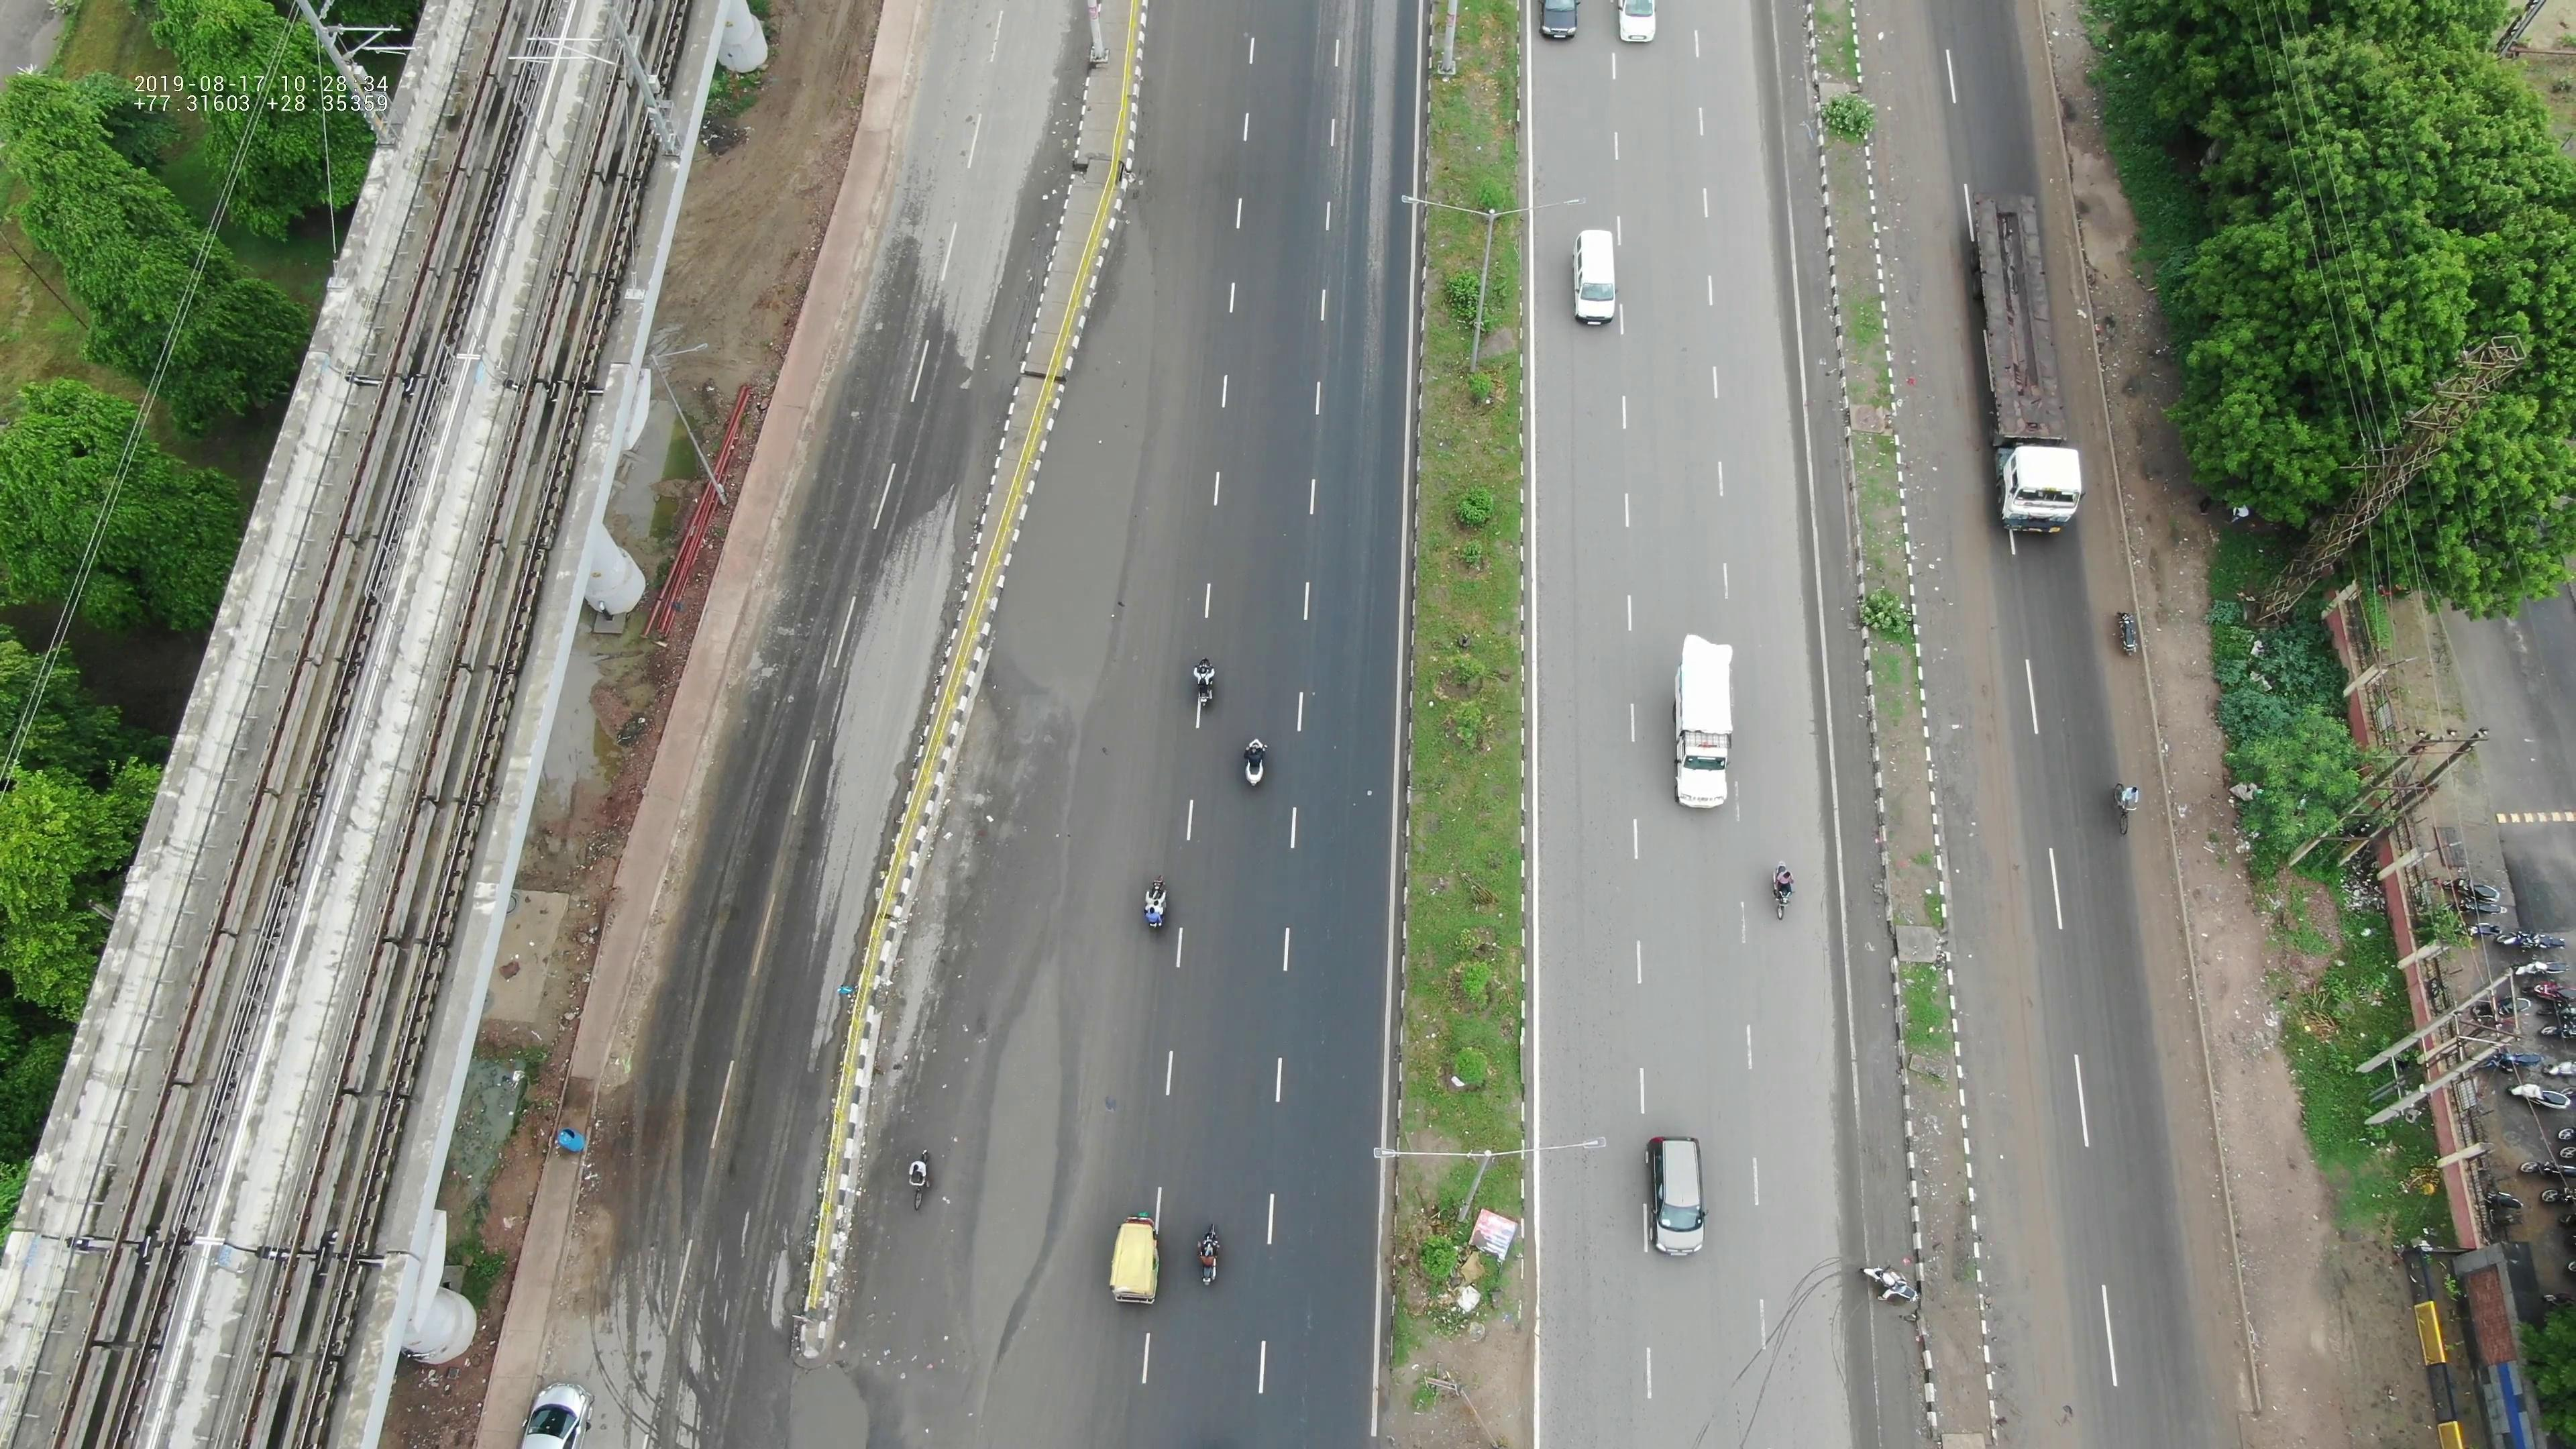Potholes: (987, 214, 1177, 686)
